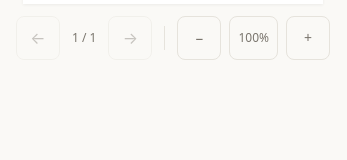
Test case: re-renders the page at a larger scale when zoom changes
Expected: the text "1 / 1" is shown, [72, 29, 96, 46]
Click the button named "Zoom in" at [308, 38], box [286, 16, 330, 60]
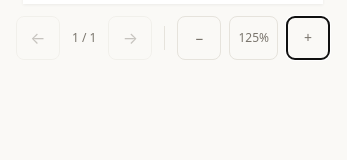
Now the button "125%" is shown, box [229, 16, 278, 60]
